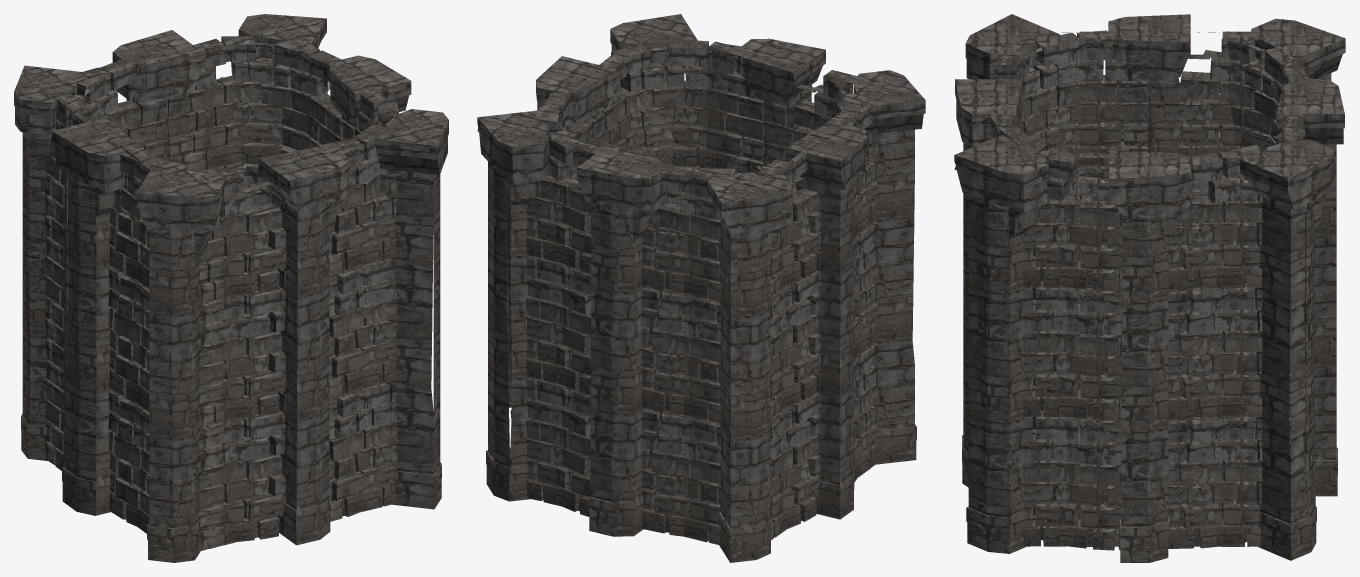
Rendered from castle.glb.
3 renders of one model, left to right at view 1: azimuth 30°, elevation 25°; view 2: azimuth 150°, elevation 25°; view 3: azimuth 270°, elevation 25°, orthographic. The views are drawn at different scales.
Parts seen in each view (by area): view 1: tower_square, tower_round, tower_square_gate; view 2: tower_square, tower_round, corner_curve; view 3: tower_square, tower_round.
Boxes of the visible parts, x1,y1,x2,y2 form: tower_square: (14, 14, 448, 562); tower_round: (51, 30, 411, 545); tower_square_gate: (46, 29, 397, 551); tower_square: (477, 14, 925, 562); tower_round: (536, 38, 866, 536); corner_curve: (642, 270, 820, 504); tower_square: (954, 14, 1345, 560); tower_round: (955, 14, 1344, 562).
Bounding box in the file's own units: 8.22 × 9 × 8.22.
Materials: 10 (6 with a texture image).
